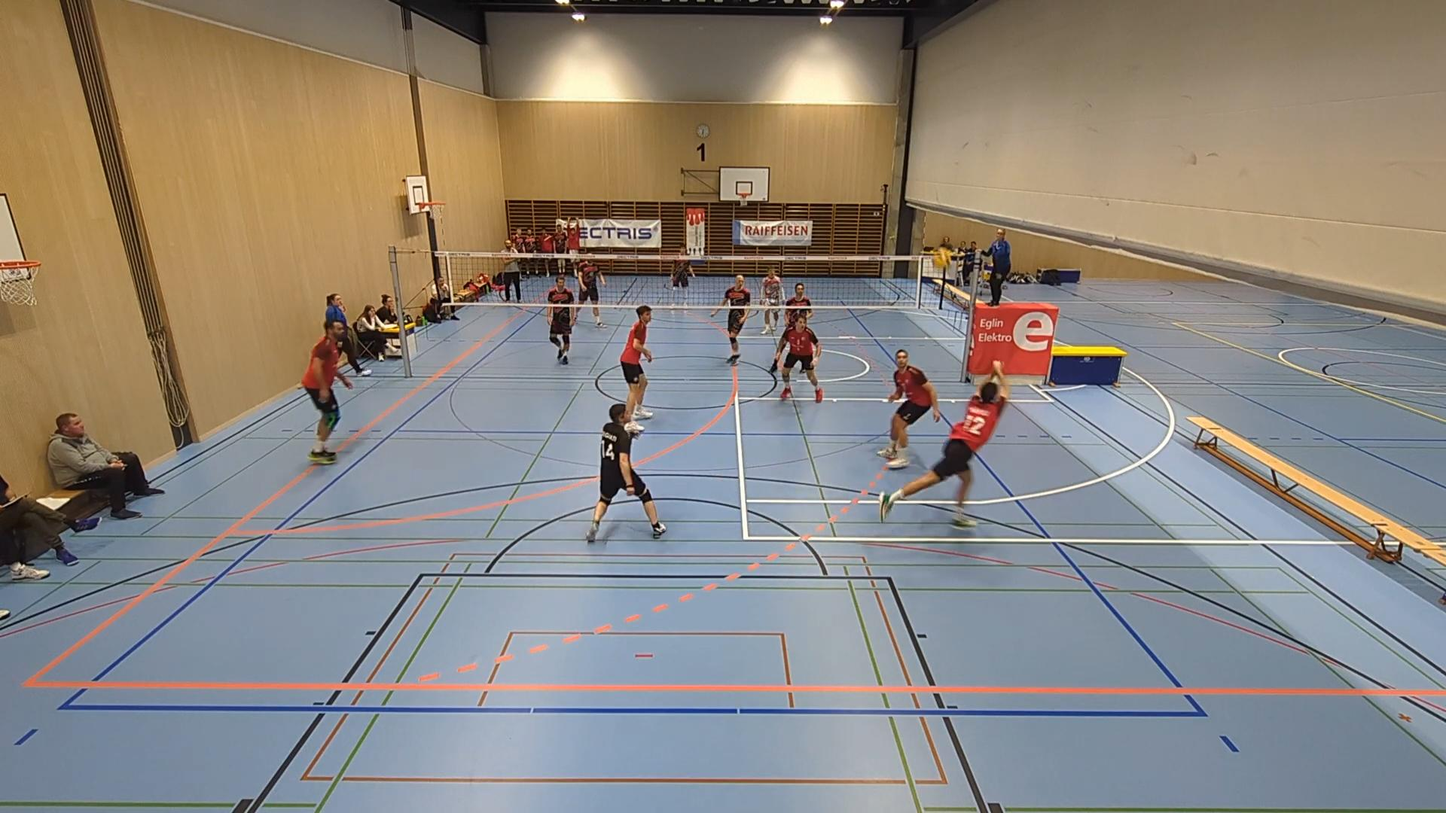difesa: (880, 355, 1014, 529)
